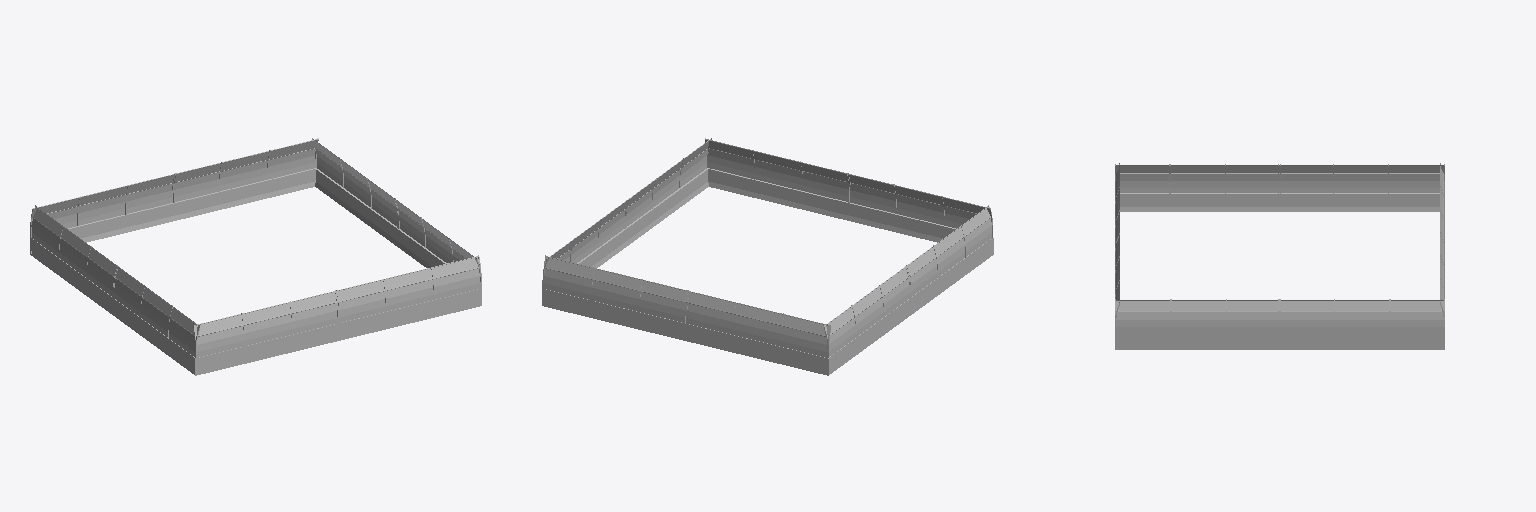
The model's file is fence.obj.
3 views of the same model, side by side, from view 1: azimuth 30°, elevation 25°; view 2: azimuth 150°, elevation 25°; view 3: azimuth 270°, elevation 25° (orthographic).
Parts seen in each view (by area): view 1: wall_St7, wall_St3, wall_St2, wall_St6, wall_St, wall_St1; view 2: wall_St7, wall_St3, wall_St6, wall_St2, wall_St1, wall_St; view 3: wall_St6, wall_St, wall_St1, wall_St7.
Part boxes in pixels (x1,y1,x2,y2): wall_St7: (30, 138, 318, 255); wall_St3: (335, 255, 481, 340); wall_St2: (193, 290, 339, 375); wall_St6: (312, 138, 481, 281); wall_St: (31, 205, 118, 315); wall_St1: (112, 265, 199, 375); wall_St7: (543, 255, 830, 375); wall_St3: (705, 138, 850, 220); wall_St6: (542, 138, 711, 305); wall_St2: (846, 173, 992, 242); wall_St1: (906, 205, 993, 315); wall_St: (824, 265, 911, 373); wall_St6: (1115, 299, 1444, 349); wall_St: (1278, 164, 1444, 211); wall_St1: (1115, 164, 1280, 211); wall_St7: (1440, 163, 1444, 316).
Size of the model in its own units: 69.83 by 11.38 by 69.84.